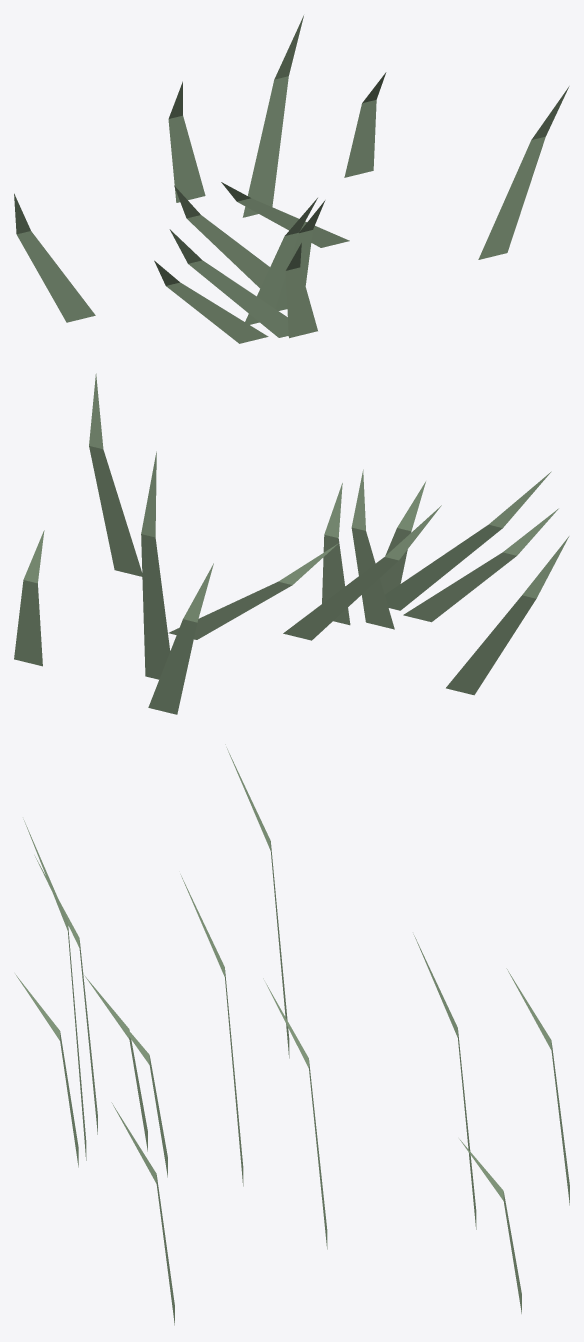
Rendered from short_grass_variant_02.glb.
3 views of the same model, one above another, from view 1: azimuth 30°, elevation 25°; view 2: azimuth 150°, elevation 25°; view 3: azimuth 270°, elevation 25° (orthographic). The views are drawn at different scales.
Visible parts, largest first — view 1: static_leaf_sage; view 2: static_leaf_sage; view 3: static_leaf_sage.
Boxes of the visible parts, x1,y1,x2,y2 form: static_leaf_sage: [14, 15, 569, 343]; static_leaf_sage: [14, 373, 569, 714]; static_leaf_sage: [15, 744, 569, 1325].
Bounding box in the file's own units: 0.9542 × 0.3705 × 0.6025.
